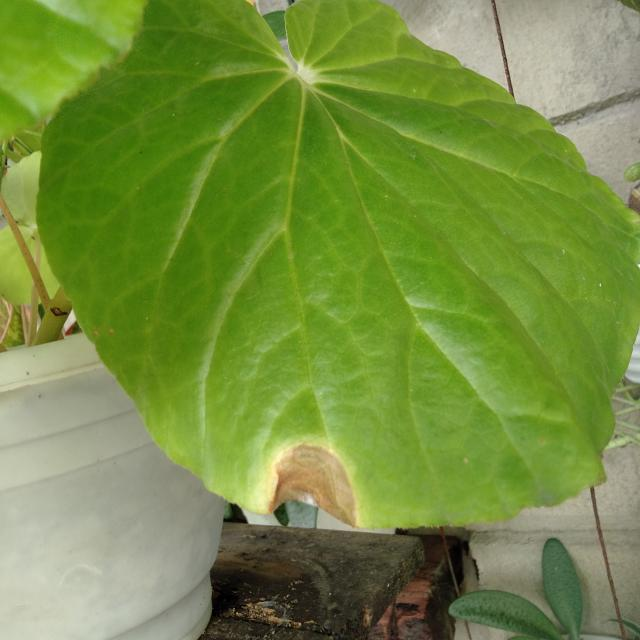blight: (261, 430, 364, 528)
